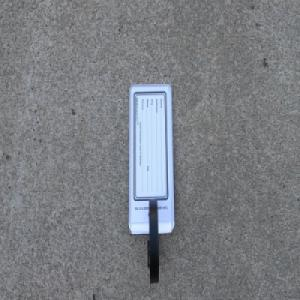LuggageTag: (126, 81, 176, 288)
